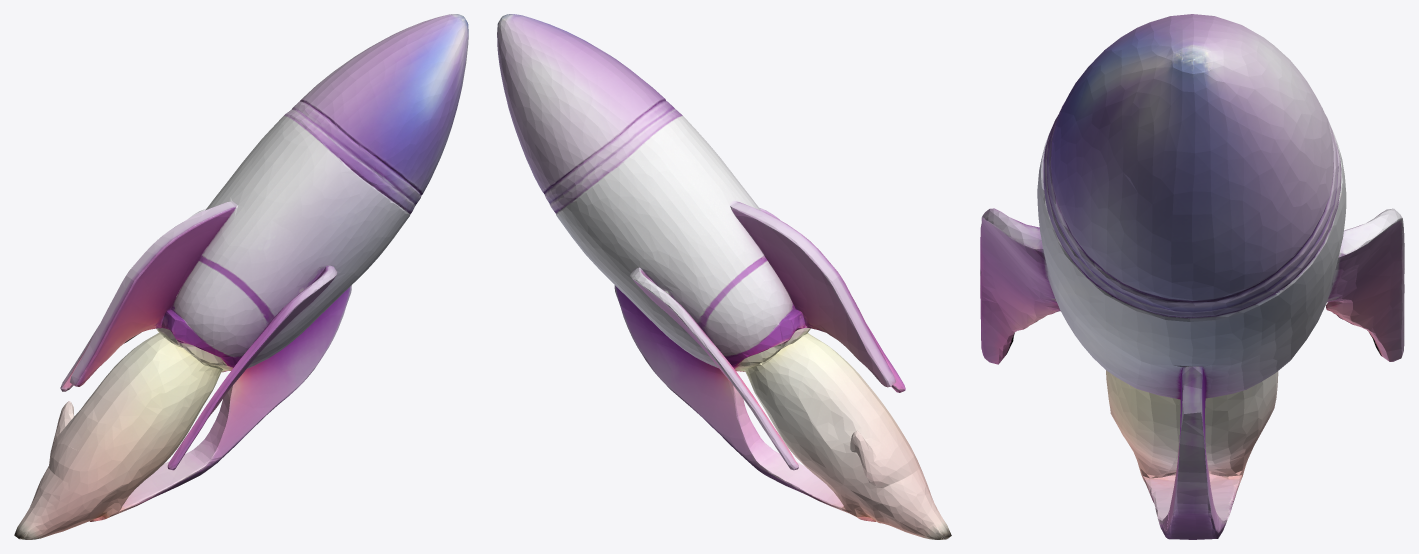
Rendered from space-rocket.glb.
The picture shows the model from 3 angles, left to right: view 1: azimuth 30°, elevation 25°; view 2: azimuth 150°, elevation 25°; view 3: azimuth 270°, elevation 25°; orthographic projection. The views are drawn at different scales.
Parts seen in each view (by area): view 1: world; view 2: world; view 3: world.
Boxes of the visible parts, left/top/right/bottom form: world: left=14, top=14, right=468, bottom=539; world: left=497, top=14, right=951, bottom=539; world: left=980, top=14, right=1404, bottom=539.
Bounding box in the file's own units: 0.9298 × 0.8239 × 0.4073.
1 material, 1 textured.
